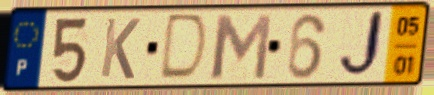5: (49, 14, 93, 84)
6: (285, 11, 329, 82)
D: (155, 11, 211, 84)
J: (335, 8, 387, 83)
K: (97, 16, 143, 82)
M: (209, 11, 275, 82)
